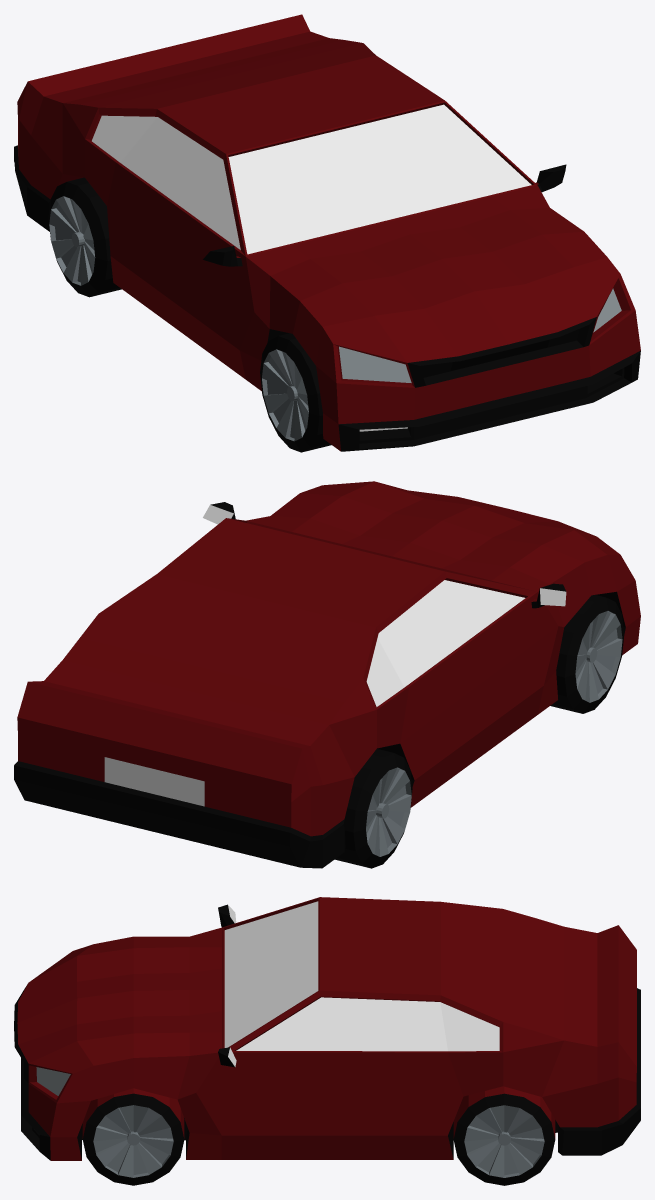
The model's file is car-red.fbx.
3 renders of one model, top to bottom at view 1: azimuth 30°, elevation 25°; view 2: azimuth 150°, elevation 25°; view 3: azimuth 270°, elevation 25°, orthographic. The views are drawn at different scales.
Parts seen in each view (by area): view 1: Low Poly Sports Car, Low Poly Sports Car.003, Low Poly Sports Car.001; view 2: Low Poly Sports Car, Low Poly Sports Car.003, Low Poly Sports Car.001; view 3: Low Poly Sports Car, Low Poly Sports Car.004, Low Poly Sports Car.002.
Boxes of the visible parts, <box> form: Low Poly Sports Car: <box>14,14,640,451</box>; Low Poly Sports Car.003: <box>48,177,121,297</box>; Low Poly Sports Car.001: <box>260,333,331,452</box>; Low Poly Sports Car: <box>14,481,640,868</box>; Low Poly Sports Car.003: <box>335,749,412,868</box>; Low Poly Sports Car.001: <box>550,595,624,713</box>; Low Poly Sports Car: <box>14,897,640,1160</box>; Low Poly Sports Car.004: <box>453,1086,555,1185</box>; Low Poly Sports Car.002: <box>82,1088,184,1185</box>.
Size of the model in its own units: 260 by 141 by 446.
